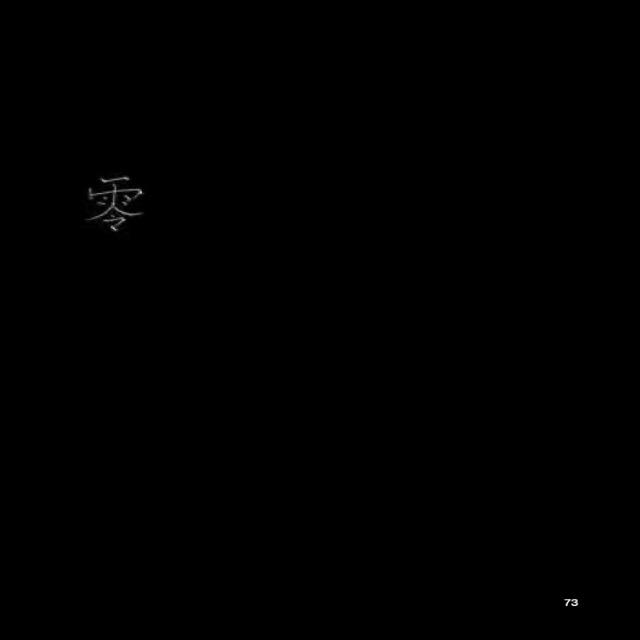0 -zero-: (64, 165, 164, 242)
